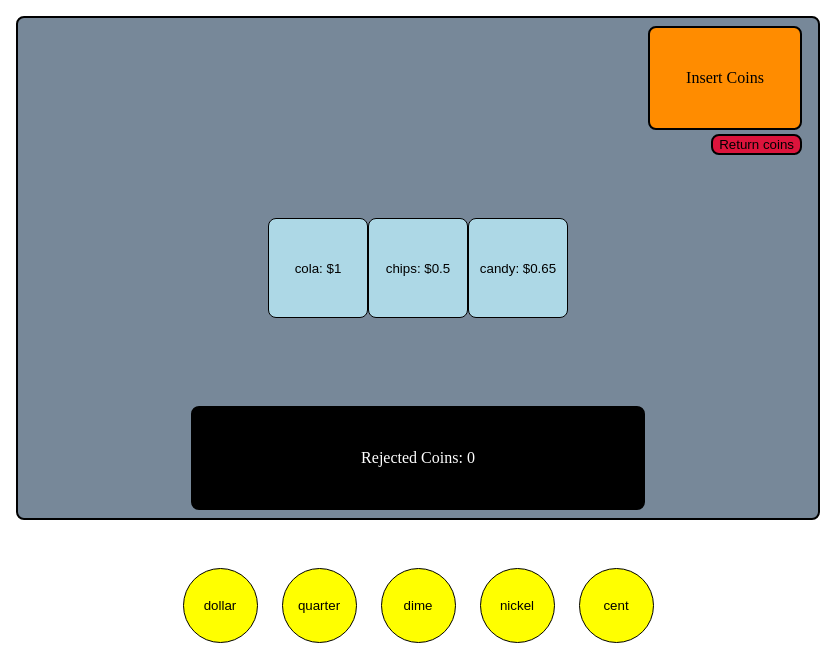
Test: UI elements have the correct affect on UI › Clicking the coin element adds to the total on the coin slot element
(page scrolled)
Click the button with test id "quarter" at (319, 606), box [282, 568, 356, 643]
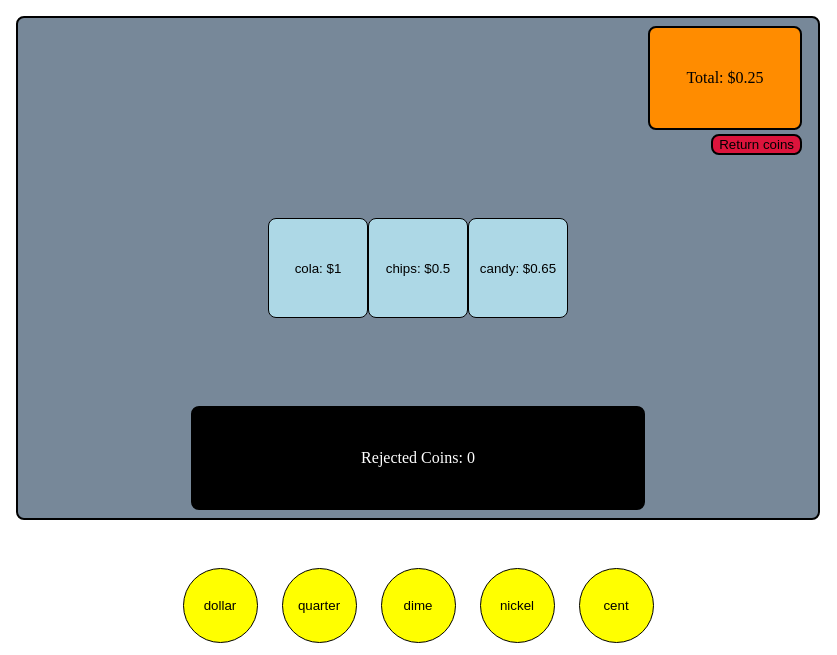
Now the text with test id "coin-total" reads "Total: $0.25", box [686, 69, 764, 86]
